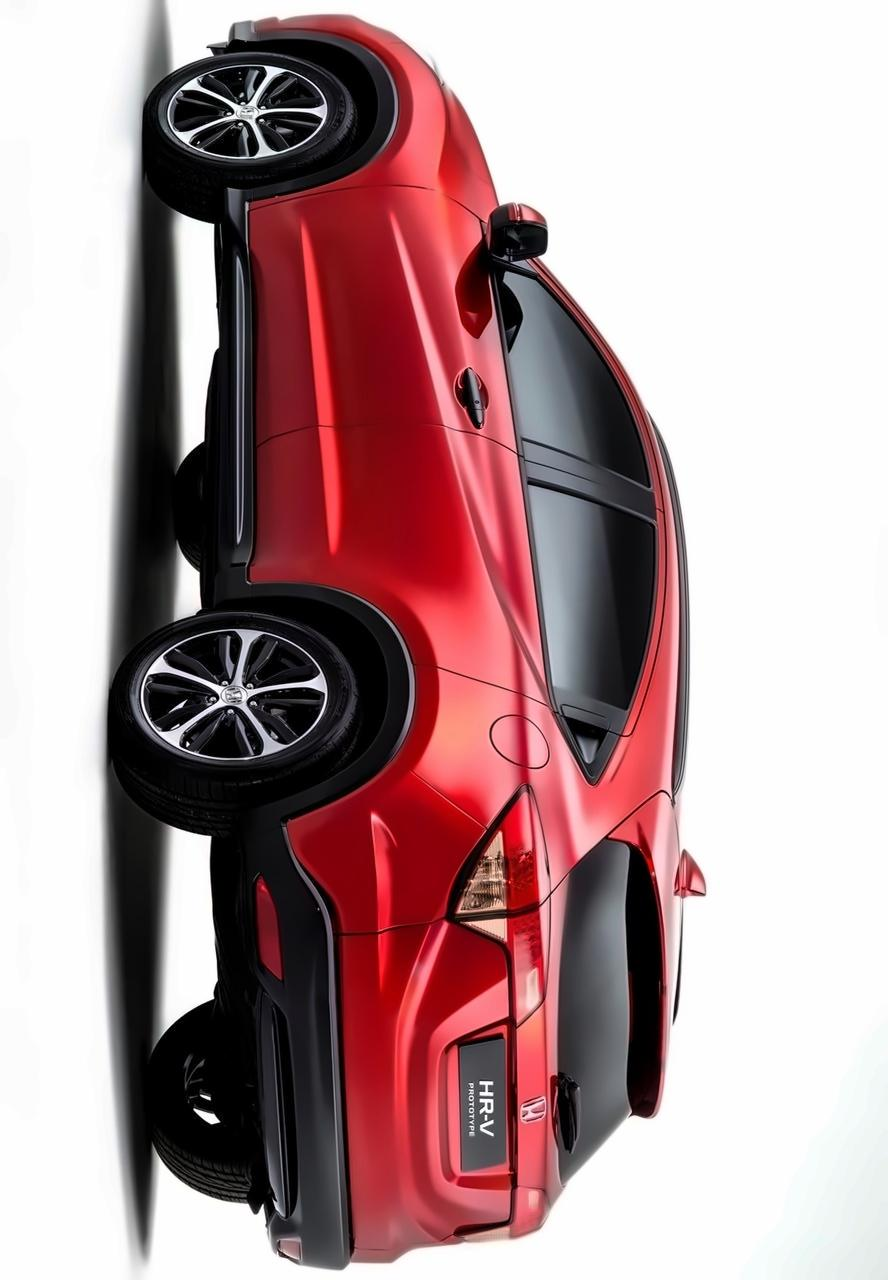Car boot: (323, 788, 676, 1260)
Fender - -F-L-: (235, 43, 512, 216)
Fender - -R-L-: (373, 650, 639, 822)
Front bumper: (218, 3, 378, 77)
Passenger-s door - -F-L-: (238, 183, 667, 488)
Passenger-s door - -R-L-: (243, 425, 667, 738)
Rear bumper: (195, 768, 473, 1279)
Rear light - -L-: (440, 1175, 569, 1256)
Rear light - -R-: (435, 773, 560, 1040)
Side bumper - -L-: (195, 165, 278, 625)
Side mirror - -L-: (478, 183, 569, 286)
